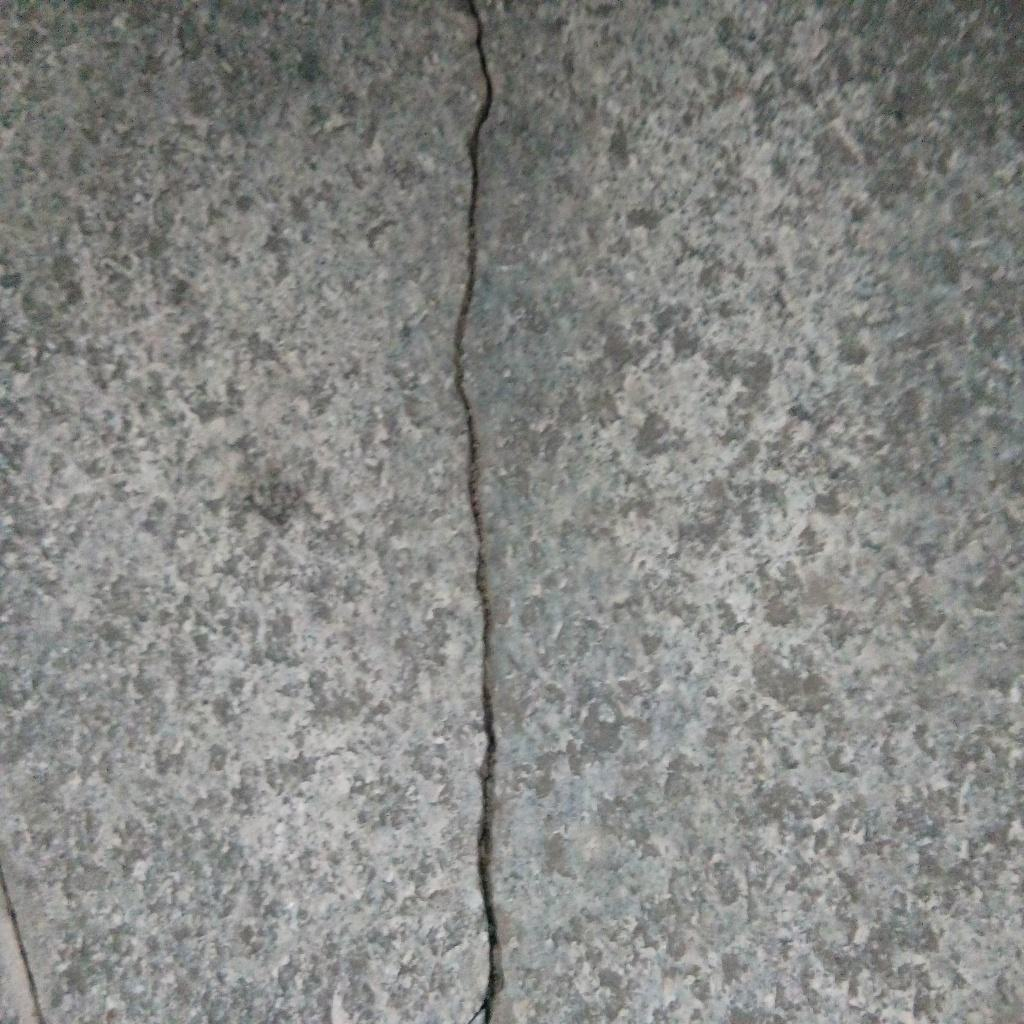Crack: (453, 1, 506, 1024)
